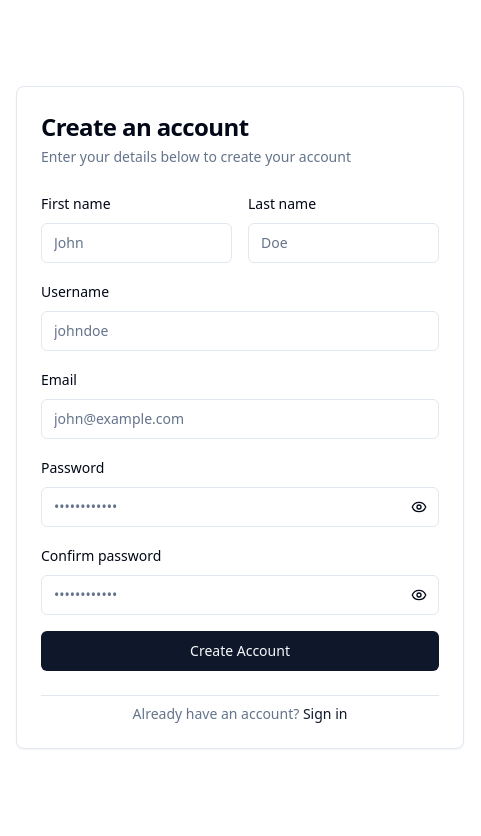
Test: RegisterPage › shows field-level validation errors on empty submit
What coordinates should you click on to do the following:
click the button "Create Account"
I would click on:
 (240, 650)
Its box is [41,630,439,670].
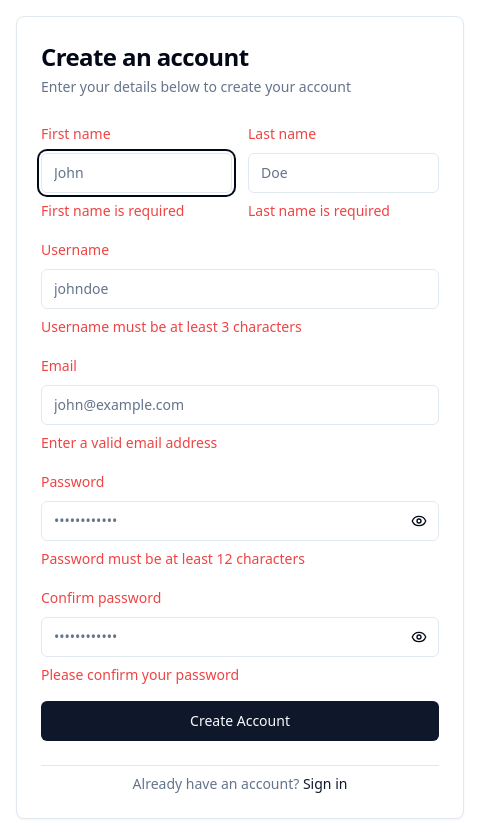
Expected: the text "First name is required" is shown, [41,200,184,220]
